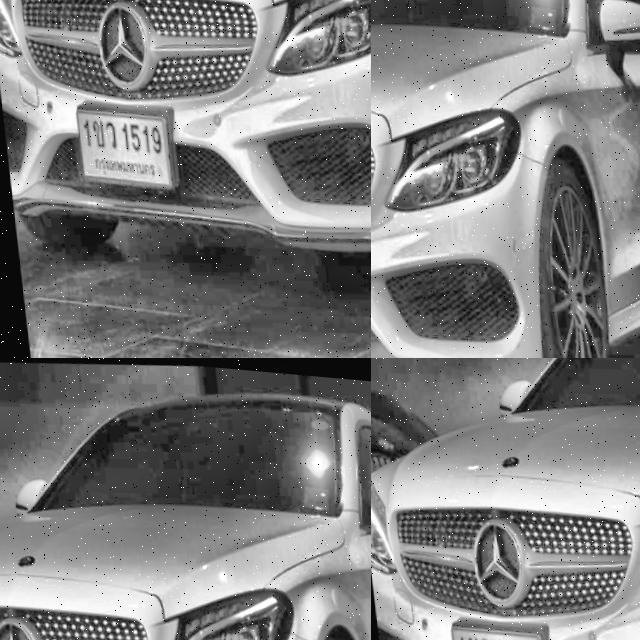license-plate: (0, 358, 371, 640), (264, 246, 371, 358), (442, 608, 543, 640)
